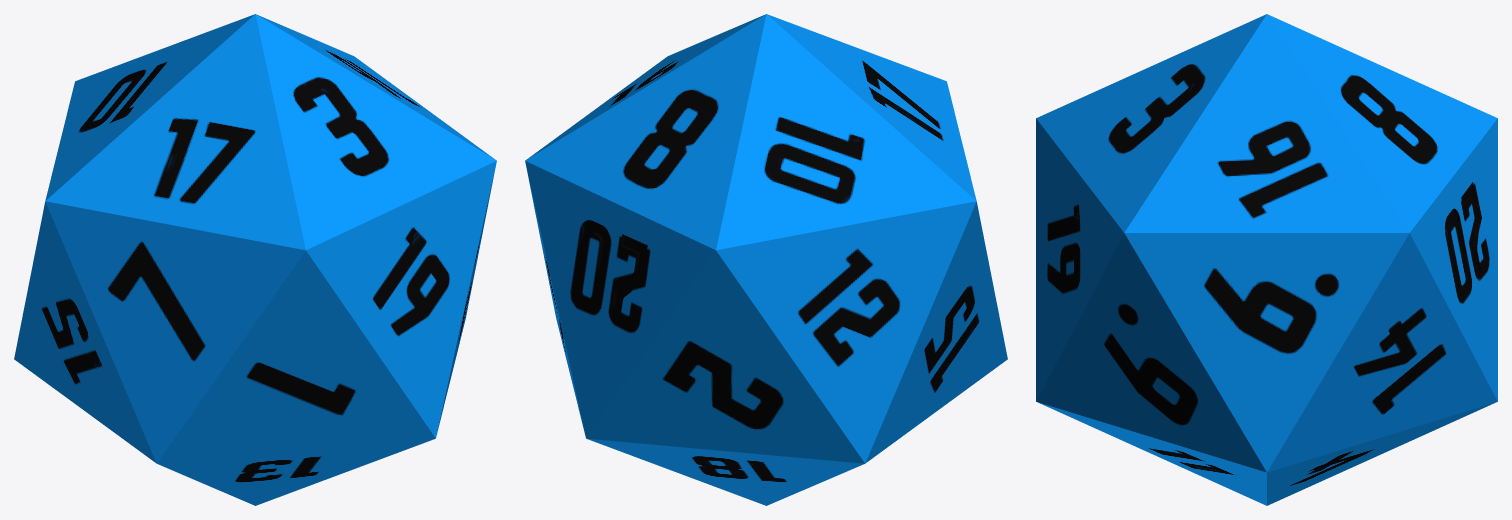
3 views of the same model, side by side, from view 1: azimuth 30°, elevation 25°; view 2: azimuth 150°, elevation 25°; view 3: azimuth 270°, elevation 25° (orthographic).
Visible parts, largest first — view 1: Dice_d20; view 2: Dice_d20; view 3: Dice_d20.
Part boxes in pixels (box(x1,y1,x2,y2)): Dice_d20: box(14, 14, 496, 505); Dice_d20: box(525, 14, 1007, 505); Dice_d20: box(1036, 14, 1497, 505).
Bounding box in the file's own units: 170 × 190 × 162.
